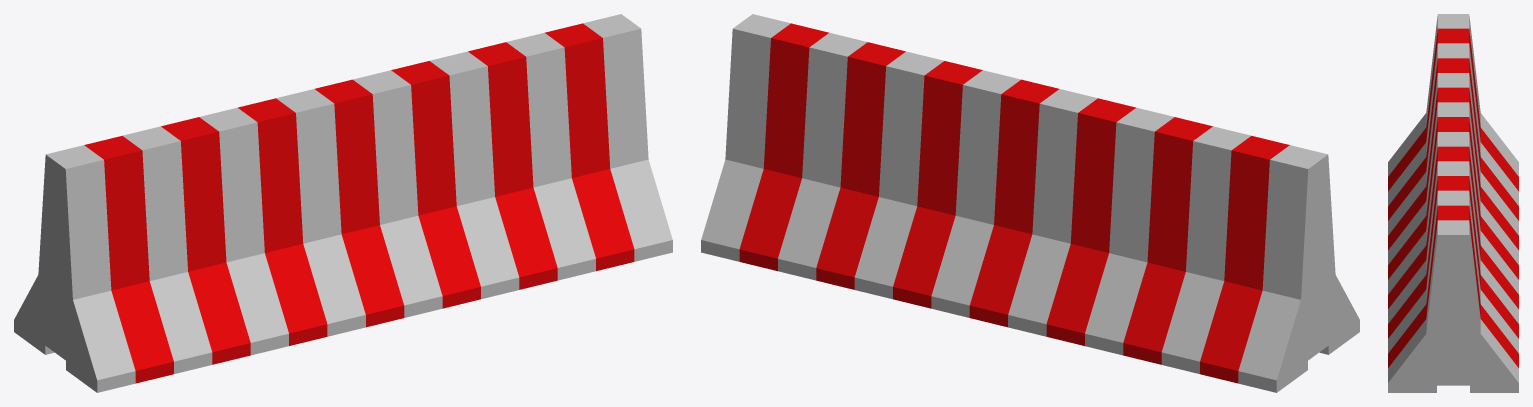
The model's file is BarrierConcreto.fbx.
3 renders of one model, left to right at view 1: azimuth 30°, elevation 25°; view 2: azimuth 150°, elevation 25°; view 3: azimuth 270°, elevation 25°, orthographic. The views are drawn at different scales.
Parts seen in each view (by area): view 1: BarrierConcreto; view 2: BarrierConcreto; view 3: BarrierConcreto.
Part boxes in pixels (x1,y1,x2,y2): BarrierConcreto: (14,14,672,392); BarrierConcreto: (701,14,1359,392); BarrierConcreto: (1388,14,1518,392).
Bounding box in the file's own units: 100 × 33.5 × 25.12.
